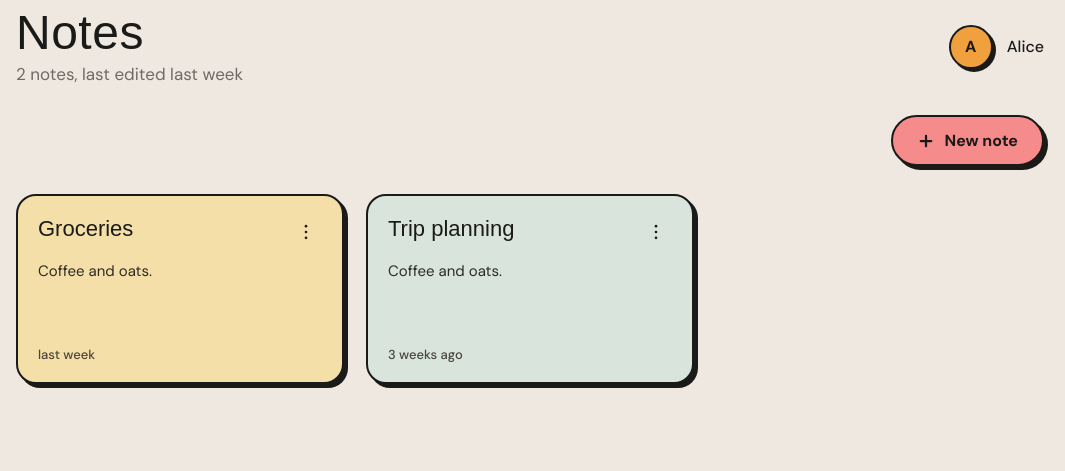
DashboardPage › acting on a note › removes the card once the note is deleted
This screenshot has width=1065, height=471.
Click the button named "Actions for Groceries": (306, 232) [290,216,322,248]
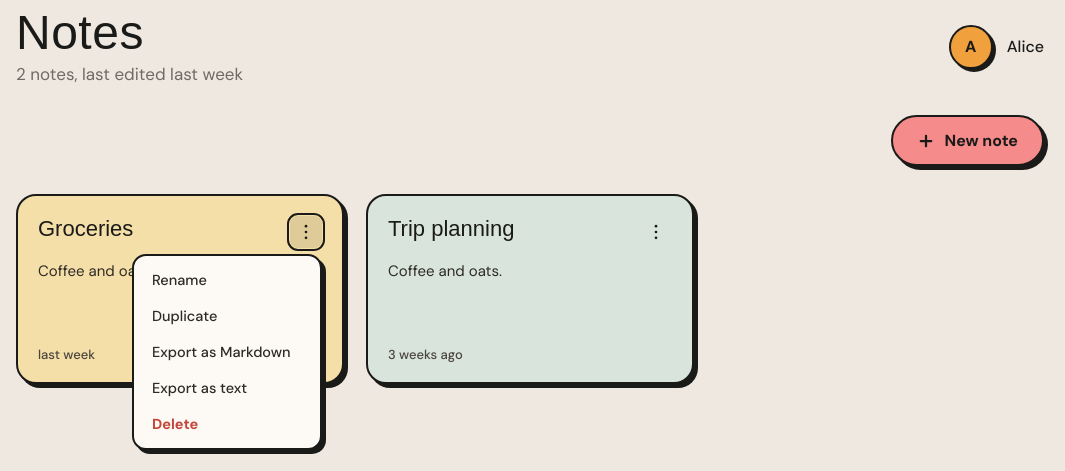
Click the button "Delete": (227, 424) [140,406,314,442]
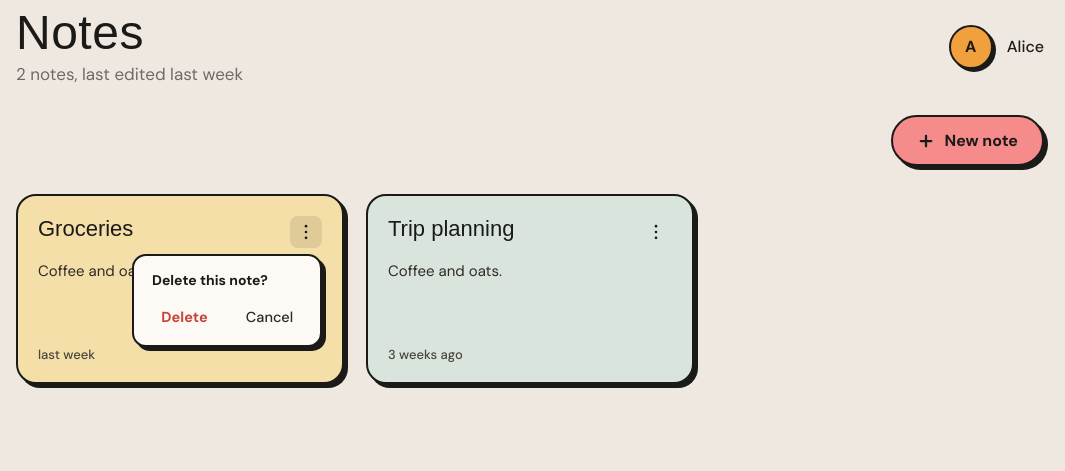
Click the button "Delete": (184, 317) [144,299,225,335]
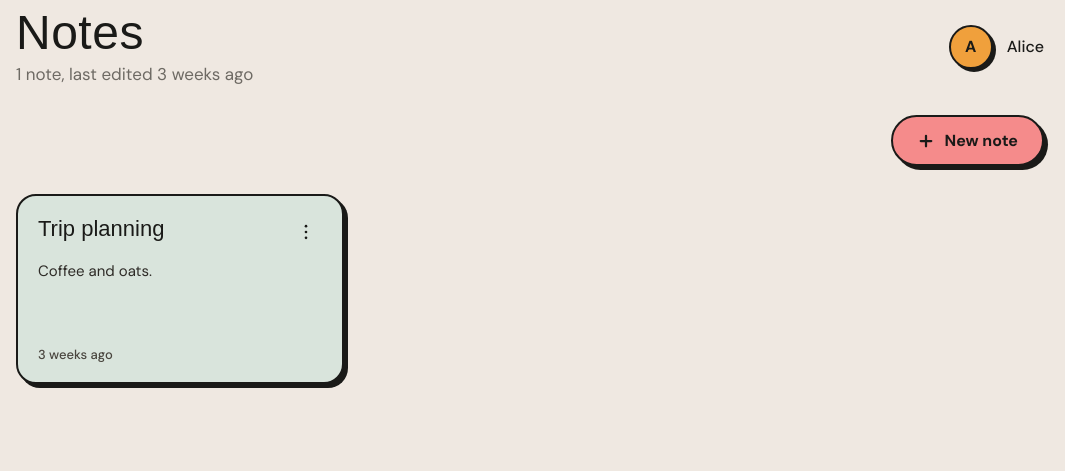
Check: the button "Groceries" is gone
